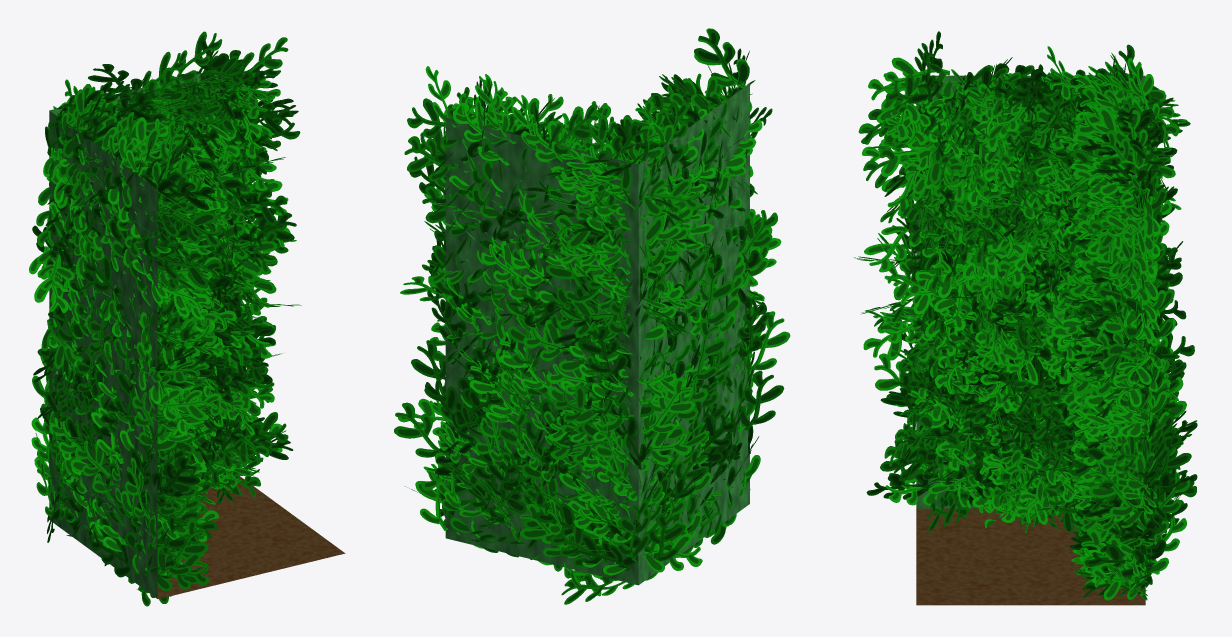
The model's file is RightTurnV2.fbx.
The picture shows the model from 3 angles, left to right: view 1: azimuth 30°, elevation 25°; view 2: azimuth 150°, elevation 25°; view 3: azimuth 270°, elevation 25°; orthographic projection. The views are drawn at different scales.
Parts seen in each view (by area): view 1: RightTurnV2, RightTurnV2|Plane|Dupli|1972, RightTurnV2|Plane|Dupli|1876, RightTurnV2|Plane|Dupli|1597, RightTurnV2|Plane|Dupli|1638, RightTurnV2|Plane|Dupli|1695, RightTurnV2|Plane|Dupli|1823, RightTurnV2|Plane|Dupli|1948, RightTurnV2|Plane|Dupli|1685, RightTurnV2|Plane|Dupli|617, RightTurnV2|Plane|Dupli|1788, RightTurnV2|Plane|Dupli|1971 (+44 smaller); view 2: RightTurnV2, RightTurnV2|Plane|Dupli|1690, RightTurnV2|Plane|Dupli|638, RightTurnV2|Plane|Dupli|315, RightTurnV2|Plane|Dupli|1434, RightTurnV2|Plane|Dupli|707, RightTurnV2|Plane|Dupli|1971, RightTurnV2|Plane|Dupli|818, RightTurnV2|Plane|Dupli|1477, RightTurnV2|Plane|Dupli|854, RightTurnV2|Plane|Dupli|1842, RightTurnV2|Plane|Dupli|463 (+48 smaller); view 3: RightTurnV2, RightTurnV2|Plane|Dupli|74, RightTurnV2|Plane|Dupli|1568, RightTurnV2|Plane|Dupli|378, RightTurnV2|Plane|Dupli|1535, RightTurnV2|Plane|Dupli|151, RightTurnV2|Plane|Dupli|1968, RightTurnV2|Plane|Dupli|289, RightTurnV2|Plane|Dupli|494, RightTurnV2|Plane|Dupli|356, RightTurnV2|Plane|Dupli|1516, RightTurnV2|Plane|Dupli|275 (+49 smaller).
Part boxes in pixels (<box>): RightTurnV2: <box>49,66,345,598</box>; RightTurnV2|Plane|Dupli|1972: <box>158,201,222,247</box>; RightTurnV2|Plane|Dupli|1876: <box>155,243,223,288</box>; RightTurnV2|Plane|Dupli|1597: <box>155,388,221,420</box>; RightTurnV2|Plane|Dupli|1638: <box>157,519,208,575</box>; RightTurnV2|Plane|Dupli|1695: <box>146,273,210,317</box>; RightTurnV2|Plane|Dupli|1823: <box>151,457,200,496</box>; RightTurnV2|Plane|Dupli|1948: <box>118,117,168,168</box>; RightTurnV2|Plane|Dupli|1685: <box>75,439,111,492</box>; RightTurnV2|Plane|Dupli|617: <box>29,246,68,312</box>; RightTurnV2|Plane|Dupli|1788: <box>157,552,209,591</box>; RightTurnV2|Plane|Dupli|1971: <box>152,120,187,191</box>; RightTurnV2: <box>445,83,749,585</box>; RightTurnV2|Plane|Dupli|1690: <box>740,371,784,430</box>; RightTurnV2|Plane|Dupli|638: <box>642,377,695,433</box>; RightTurnV2|Plane|Dupli|315: <box>394,402,449,457</box>; RightTurnV2|Plane|Dupli|1434: <box>523,319,585,372</box>; RightTurnV2|Plane|Dupli|707: <box>641,178,699,215</box>; RightTurnV2|Plane|Dupli|1971: <box>694,29,749,83</box>; RightTurnV2|Plane|Dupli|818: <box>687,318,727,385</box>; RightTurnV2|Plane|Dupli|1477: <box>578,326,628,375</box>; RightTurnV2|Plane|Dupli|854: <box>643,533,702,572</box>; RightTurnV2|Plane|Dupli|1842: <box>697,263,734,324</box>; RightTurnV2|Plane|Dupli|463: <box>404,136,458,181</box>; RightTurnV2: <box>916,75,1145,605</box>; RightTurnV2|Plane|Dupli|74: <box>1088,459,1144,516</box>; RightTurnV2|Plane|Dupli|1568: <box>864,226,921,272</box>; RightTurnV2|Plane|Dupli|378: <box>1081,410,1144,437</box>; RightTurnV2|Plane|Dupli|1535: <box>863,306,925,360</box>; RightTurnV2|Plane|Dupli|151: <box>1079,298,1145,330</box>; RightTurnV2|Plane|Dupli|1968: <box>876,82,928,141</box>; RightTurnV2|Plane|Dupli|289: <box>1084,544,1148,577</box>; RightTurnV2|Plane|Dupli|494: <box>1091,560,1146,600</box>; RightTurnV2|Plane|Dupli|356: <box>1113,346,1163,386</box>; RightTurnV2|Plane|Dupli|1516: <box>1127,57,1159,127</box>; RightTurnV2|Plane|Dupli|275: <box>1122,281,1158,343</box>.
Bounding box in the file's own units: 192 × 325 × 197.
